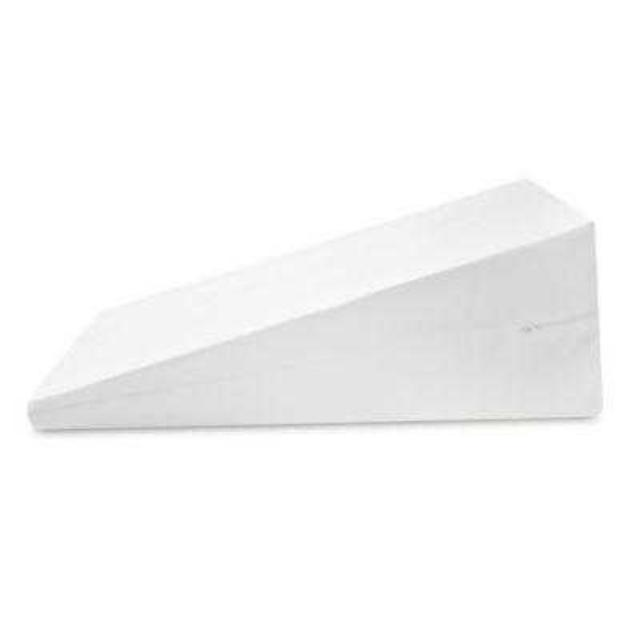pillow: (25, 175, 602, 432)
